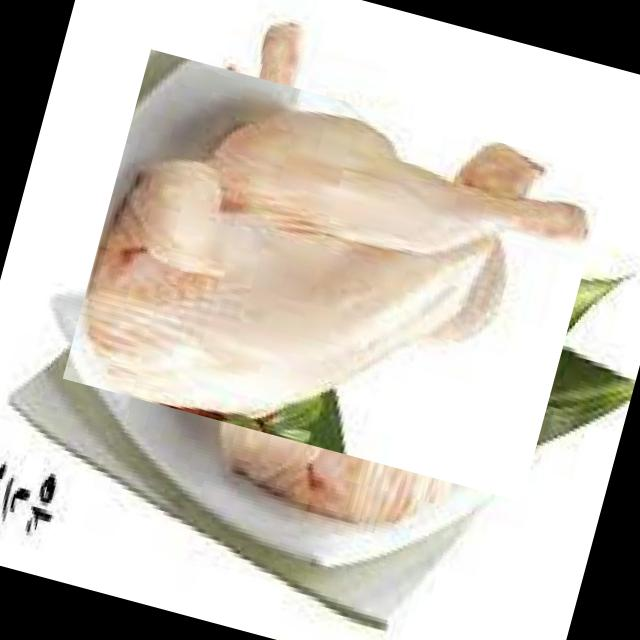chicken: (85, 25, 586, 525)
